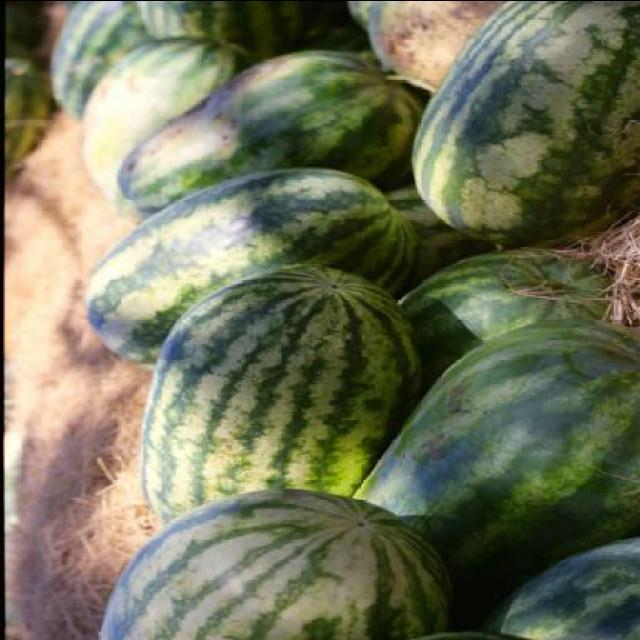Watermelon: (0, 2, 638, 640), (136, 266, 424, 532)
